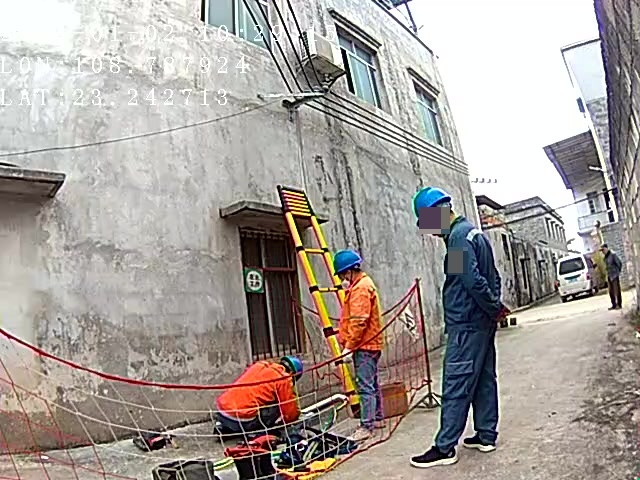downcloth: (354, 351, 383, 421), (608, 279, 623, 304)
downsuit: (435, 332, 501, 447)
halt: (412, 186, 456, 237), (334, 249, 365, 283), (278, 356, 304, 375)
hand: (496, 305, 513, 323)
inear: (425, 207, 446, 232), (341, 270, 355, 283)
person: (408, 186, 510, 462), (331, 248, 388, 432), (212, 354, 300, 430), (602, 244, 625, 309)
sleeve: (451, 251, 467, 269)
unhalt: (601, 243, 612, 252)
upcloth: (604, 254, 624, 279)
upsuit: (437, 221, 496, 326)
wglove: (341, 349, 354, 361)
worksign: (243, 270, 263, 291)
yupsuit: (214, 362, 297, 416), (336, 270, 387, 346)
